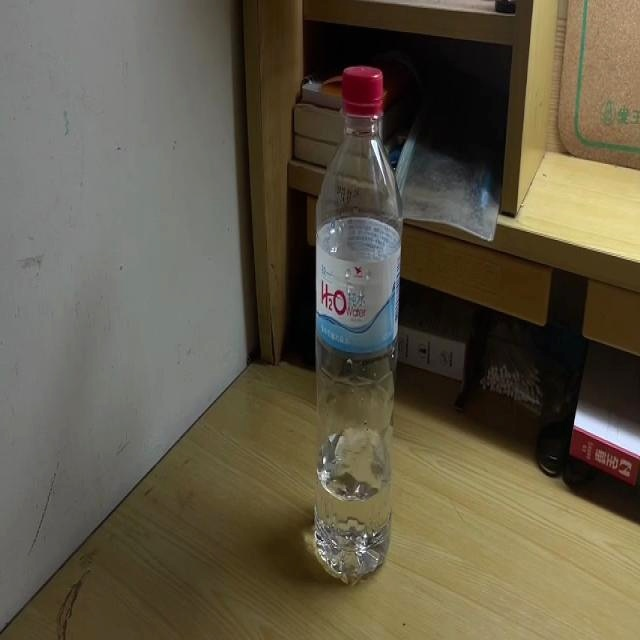Water: (312, 64, 400, 584)
